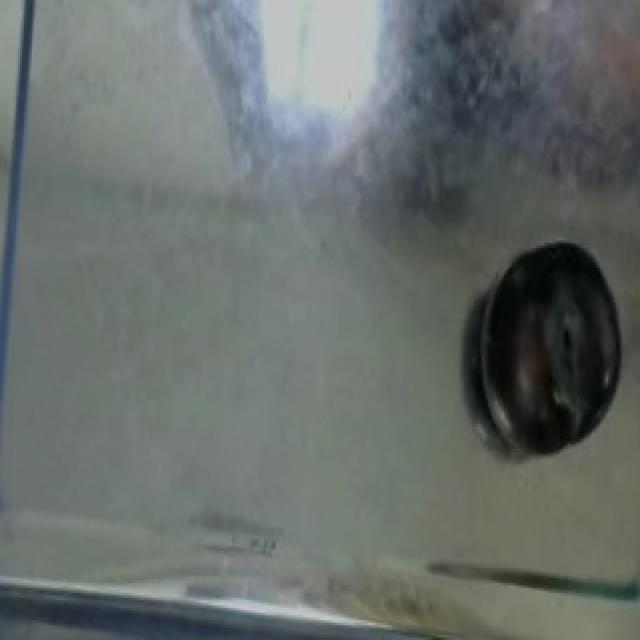Fruit: (474, 223, 630, 442)
